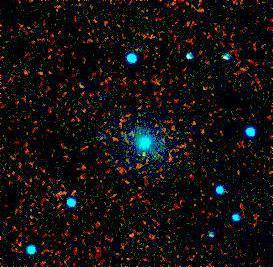star: (131, 142, 161, 172)
